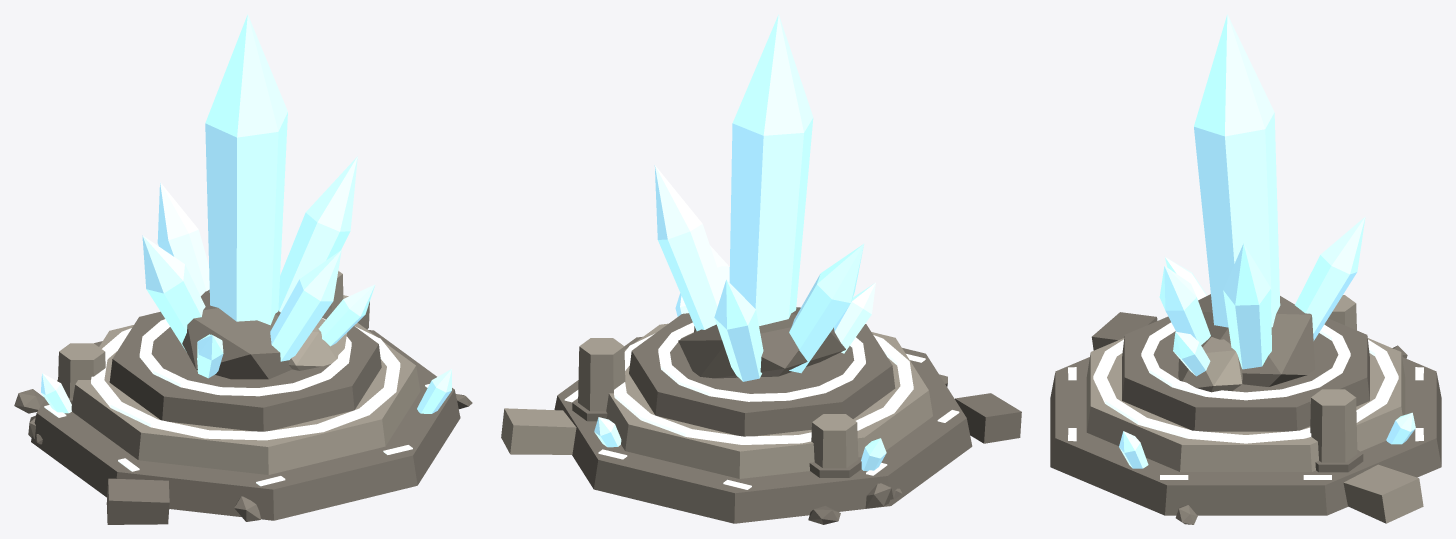
File: Shrine_Ice.fbx
3 views of the same model, side by side, from view 1: azimuth 30°, elevation 25°; view 2: azimuth 150°, elevation 25°; view 3: azimuth 270°, elevation 25° (orthographic). The views are drawn at different scales.
Parts seen in each view (by area): view 1: Shrine_Ice; view 2: Shrine_Ice; view 3: Shrine_Ice.
Boxes of the visible parts, x1,y1,x2,y2 form: Shrine_Ice: (14, 14, 472, 524); Shrine_Ice: (501, 14, 1021, 524); Shrine_Ice: (1050, 14, 1441, 524).
Bounding box in the file's own units: 3.16 × 3.24 × 2.77.
